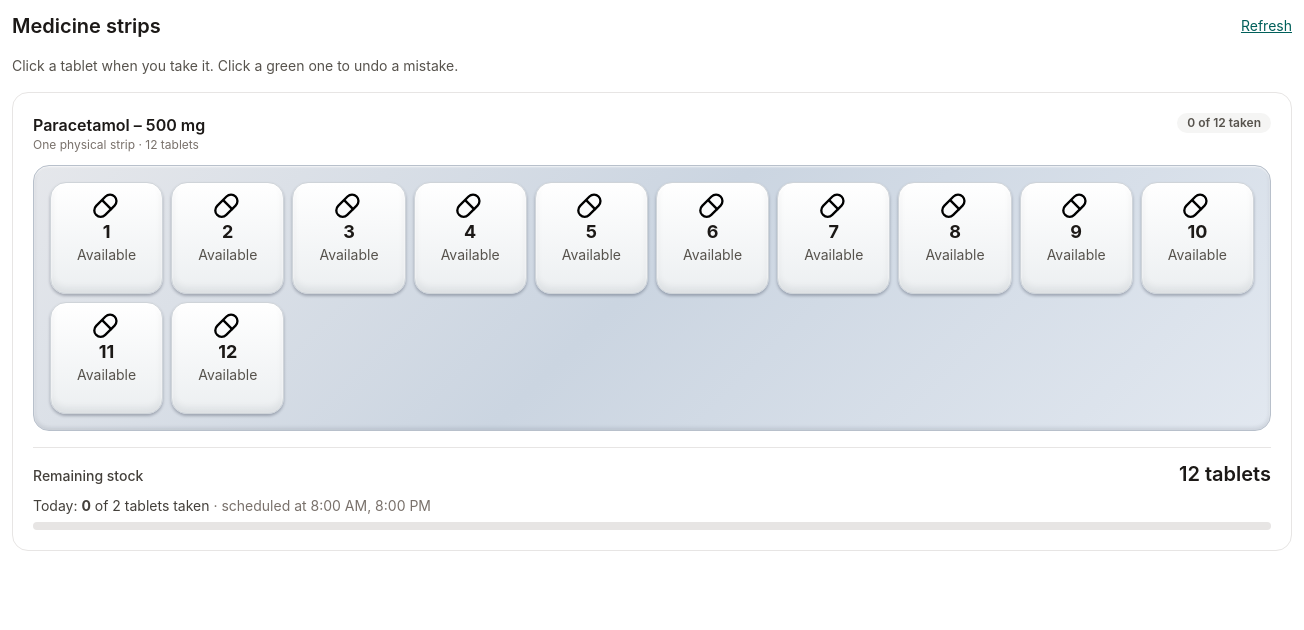
Test case: tablet blister strip › keeps the compartment available and shows the server message when the backend refuses
This screenshot has width=1304, height=630.
Step 1. Click the button with aria-label "Tablet 4, available" → [470, 238], box [414,182,527,294]
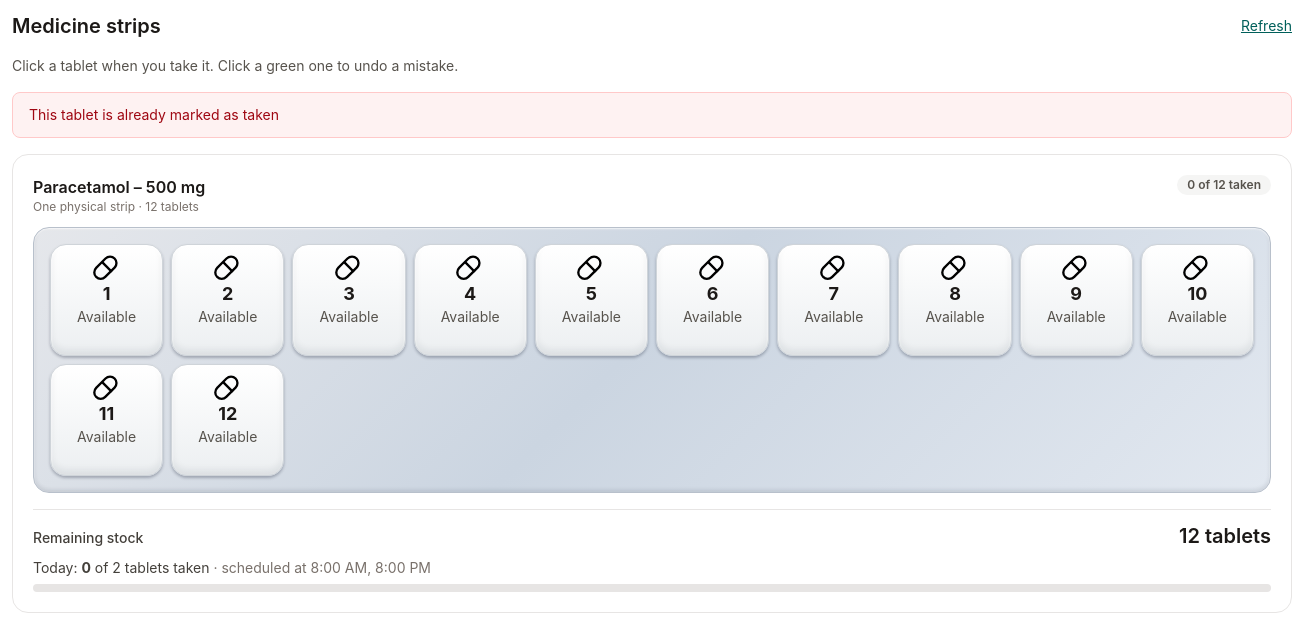
expect the message shows "already marked as taken": met, box [29,106,279,123]
